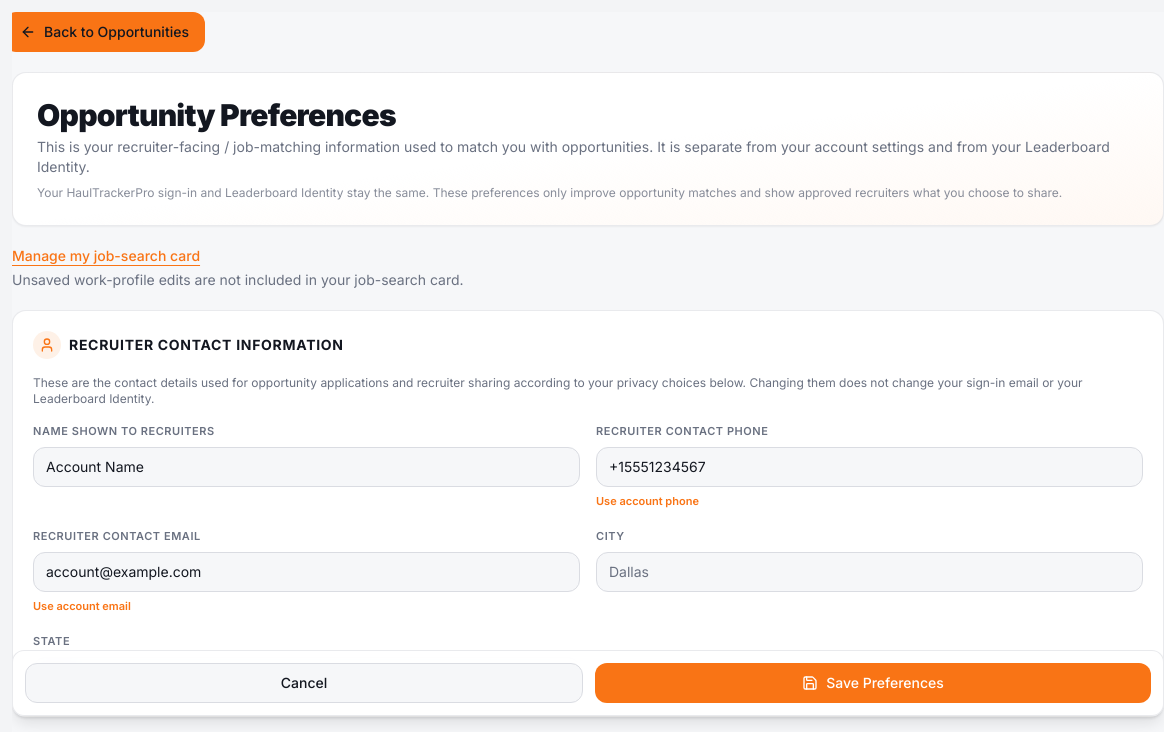
Scenario: Phase 1N-C · Use account email/phone actions › "Use account email" copies user.email into ONLY the recruiter email field
// Simulate the driver typing a distinct value first.
Replace the text in the field with placeholder "you@example.com" below "Recruiter contact email" with "typed@driver.example". click: (306, 572)
box: [33,552,580,592]
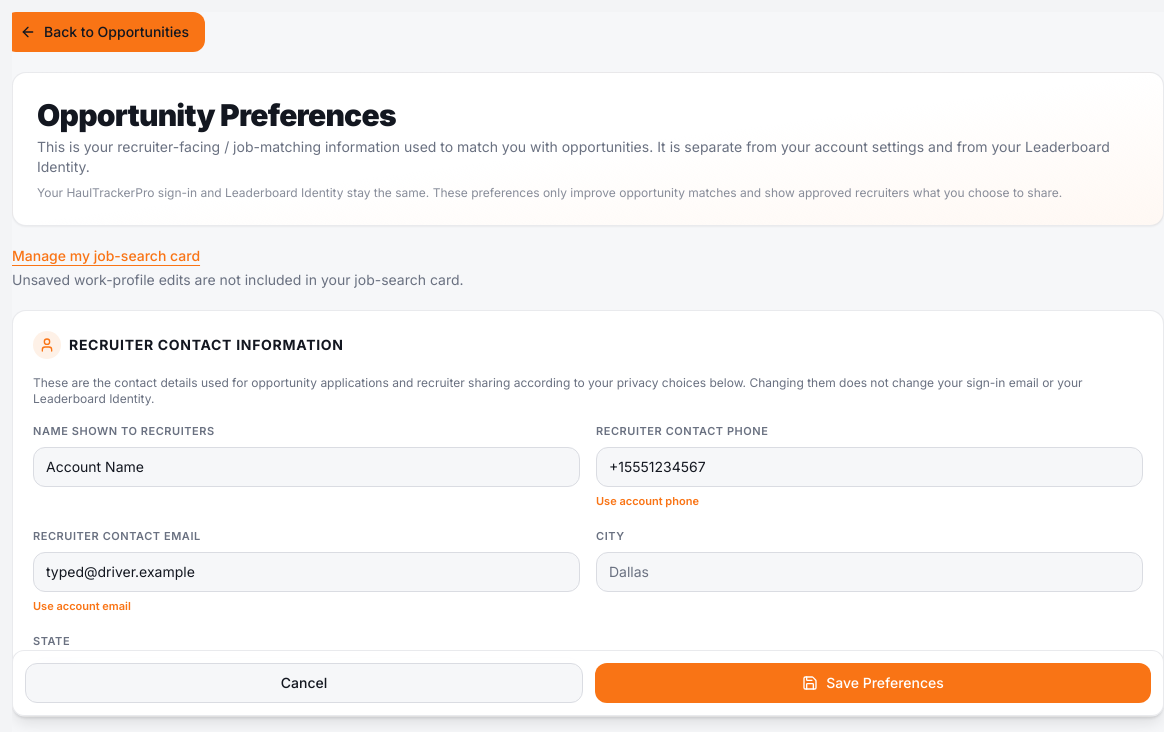
Replace the text in the field with placeholder "(555) 555-5555" below "Recruiter contact phone" with "(999) 000-1111". click: (870, 467)
box: [596,447,1143,487]
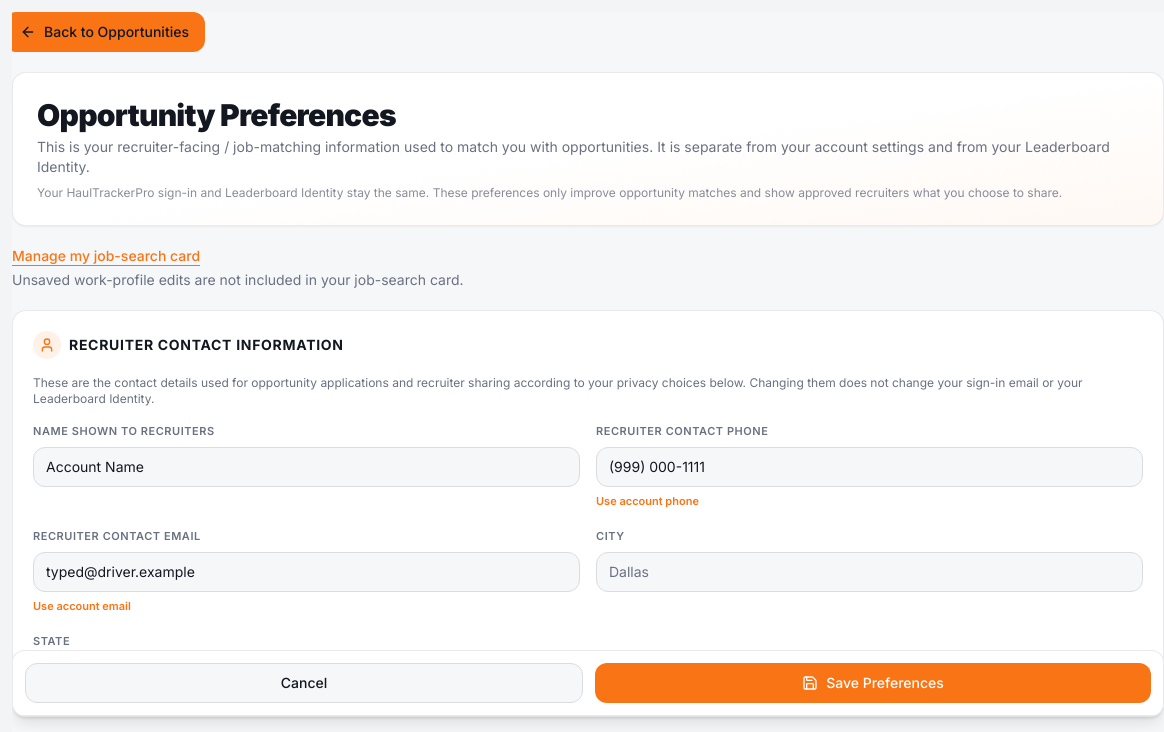
Click the button "Use account email". click: (82, 607)
box: [33,598,131,615]
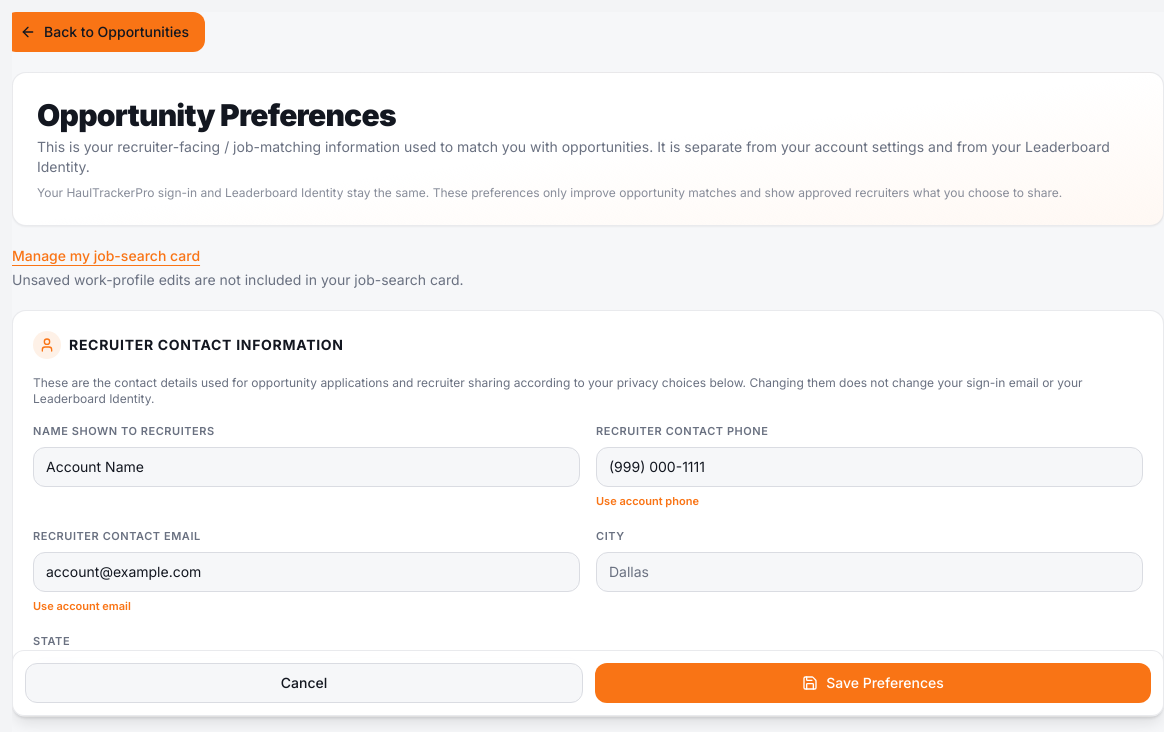
Result: the field with placeholder "you@example.com" below "Recruiter contact email" holds "account@example.com" at [33,552,580,592]
